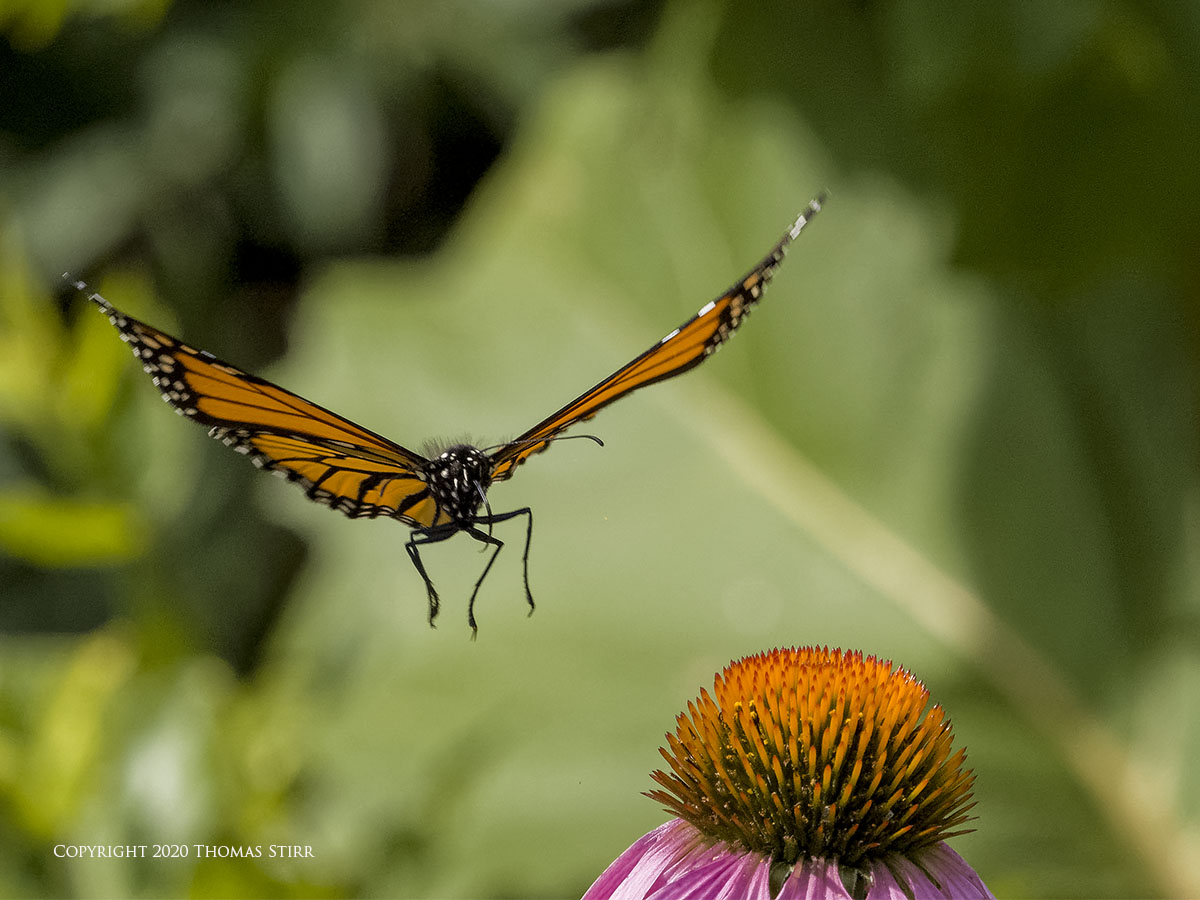insect: (61, 188, 825, 638)
